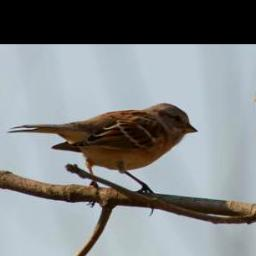Sparrow: (5, 101, 200, 215)
